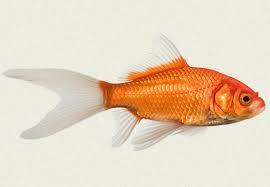Gold Fish: (4, 31, 265, 153)
